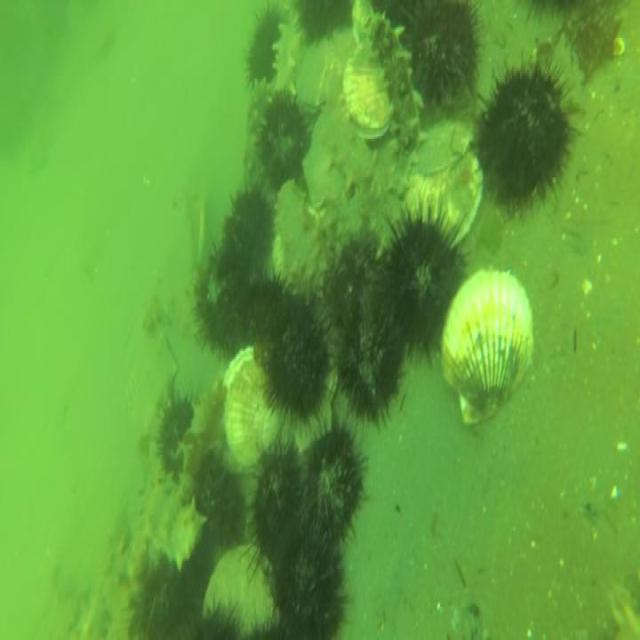echinus: (477, 59, 571, 218), (383, 208, 467, 350), (270, 520, 348, 638), (404, 0, 480, 112), (261, 302, 331, 423), (304, 425, 368, 550), (338, 302, 403, 425), (252, 438, 308, 566), (196, 244, 254, 360), (135, 554, 204, 640), (259, 94, 311, 186), (220, 187, 273, 267), (194, 449, 239, 540), (244, 0, 282, 88), (157, 388, 194, 476), (298, 0, 356, 46)
holothurian: (354, 6, 418, 150), (139, 450, 208, 576), (271, 174, 332, 295), (322, 131, 411, 202), (176, 378, 225, 506), (271, 6, 306, 95), (240, 86, 267, 194)
scallop: (438, 264, 536, 433), (402, 147, 484, 253), (202, 540, 280, 640), (301, 90, 362, 212), (223, 344, 282, 464), (341, 32, 395, 134)
